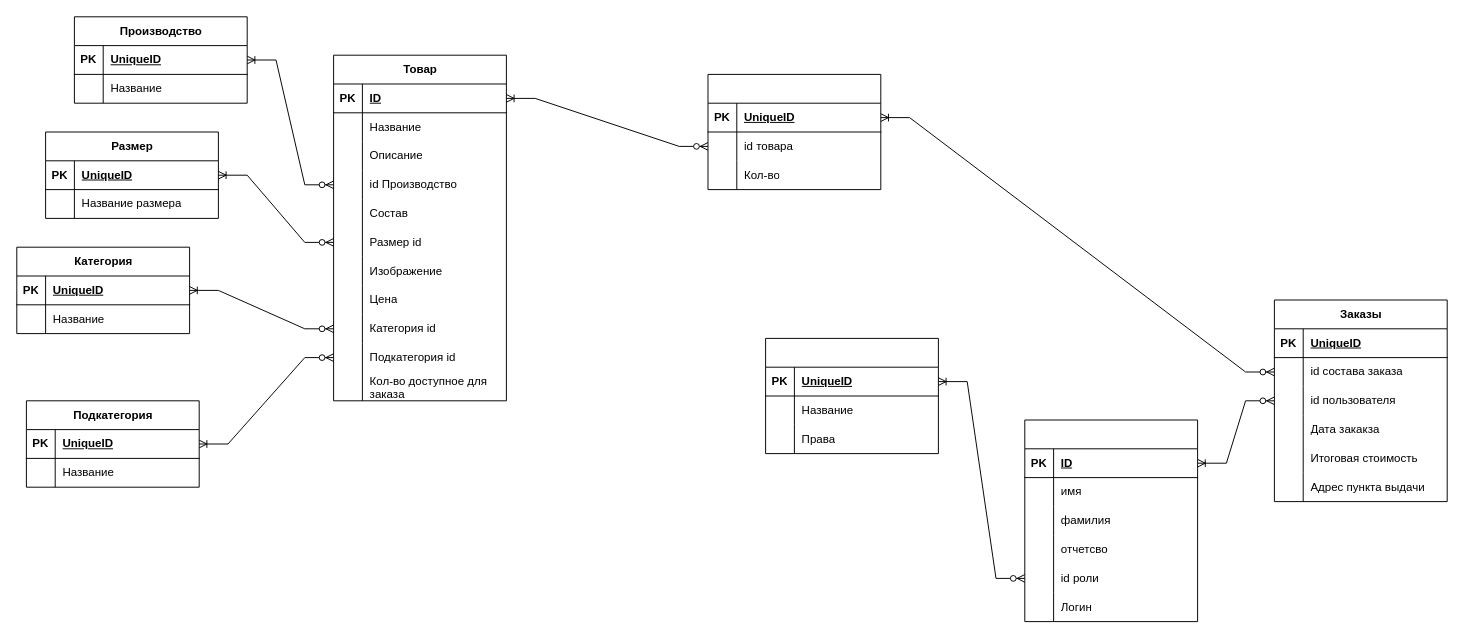
Some shapes in this 1464 by 638 pixel diagram are drawn without their labels. Each missing label, with the box of its shape:
Пользователь: (1024, 419, 1198, 622)
Роль: (765, 337, 938, 454)
Состав Заказа: (707, 73, 881, 190)
